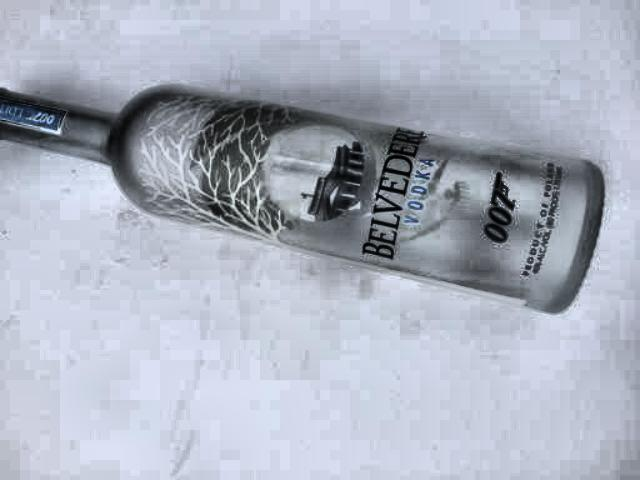Bottles: (0, 52, 616, 315)
